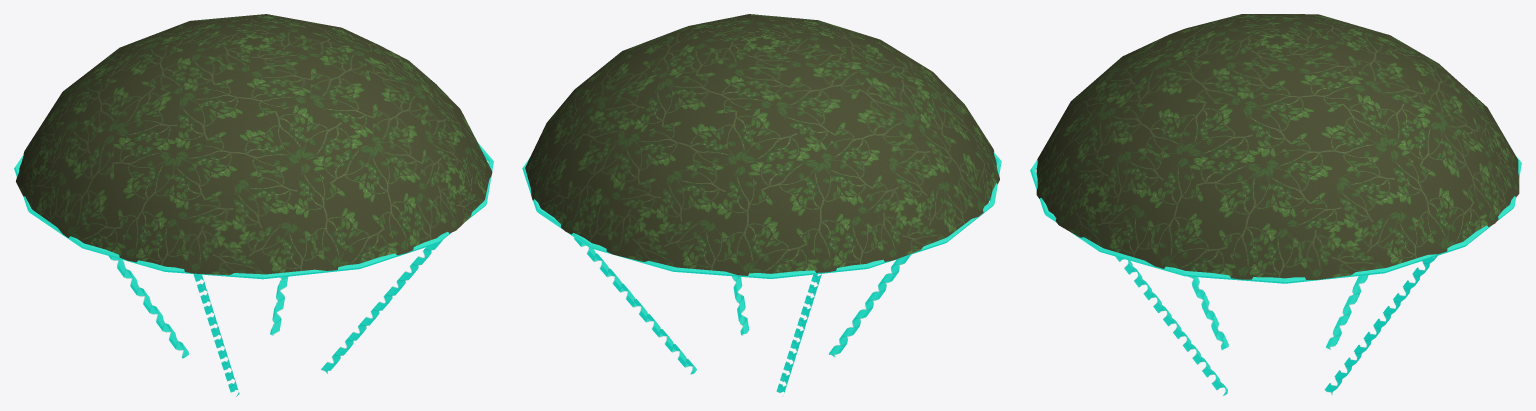
File: parachute_jungle.glb
3 renders of one model, left to right at view 1: azimuth 30°, elevation 25°; view 2: azimuth 150°, elevation 25°; view 3: azimuth 270°, elevation 25°, orthographic. The views are drawn at different scales.
Visible parts, largest first — view 1: parachute.002, rim, rope3, rope4, rope2, rope1; view 2: parachute.002, rim, rope1, rope2, rope4, rope3; view 3: parachute.002, rim, rope1, rope3, rope4, rope2.
Boxes of the visible parts, box(x1,y1,x2,y2) form: parachute.002: box(16, 14, 492, 275); rim: box(14, 143, 493, 279); rope3: box(321, 240, 442, 373); rope4: box(108, 256, 188, 358); rope2: box(193, 274, 239, 396); rope1: box(270, 276, 288, 335); parachute.002: box(525, 14, 999, 275); rim: box(522, 152, 1001, 278); rope1: box(574, 237, 696, 374); rope2: box(829, 255, 910, 357); rope4: box(776, 274, 821, 392); rope3: box(732, 276, 749, 335); parachute.002: box(1036, 14, 1519, 279); rim: box(1030, 156, 1521, 283); rope1: box(1324, 256, 1437, 394); rope3: box(1115, 256, 1227, 395); rope4: box(1326, 275, 1368, 349); rope2: box(1189, 276, 1228, 349).
Size of what is drawn, in the model's own units: 3.63 by 2.72 by 3.64.
2 materials, 2 textured.
